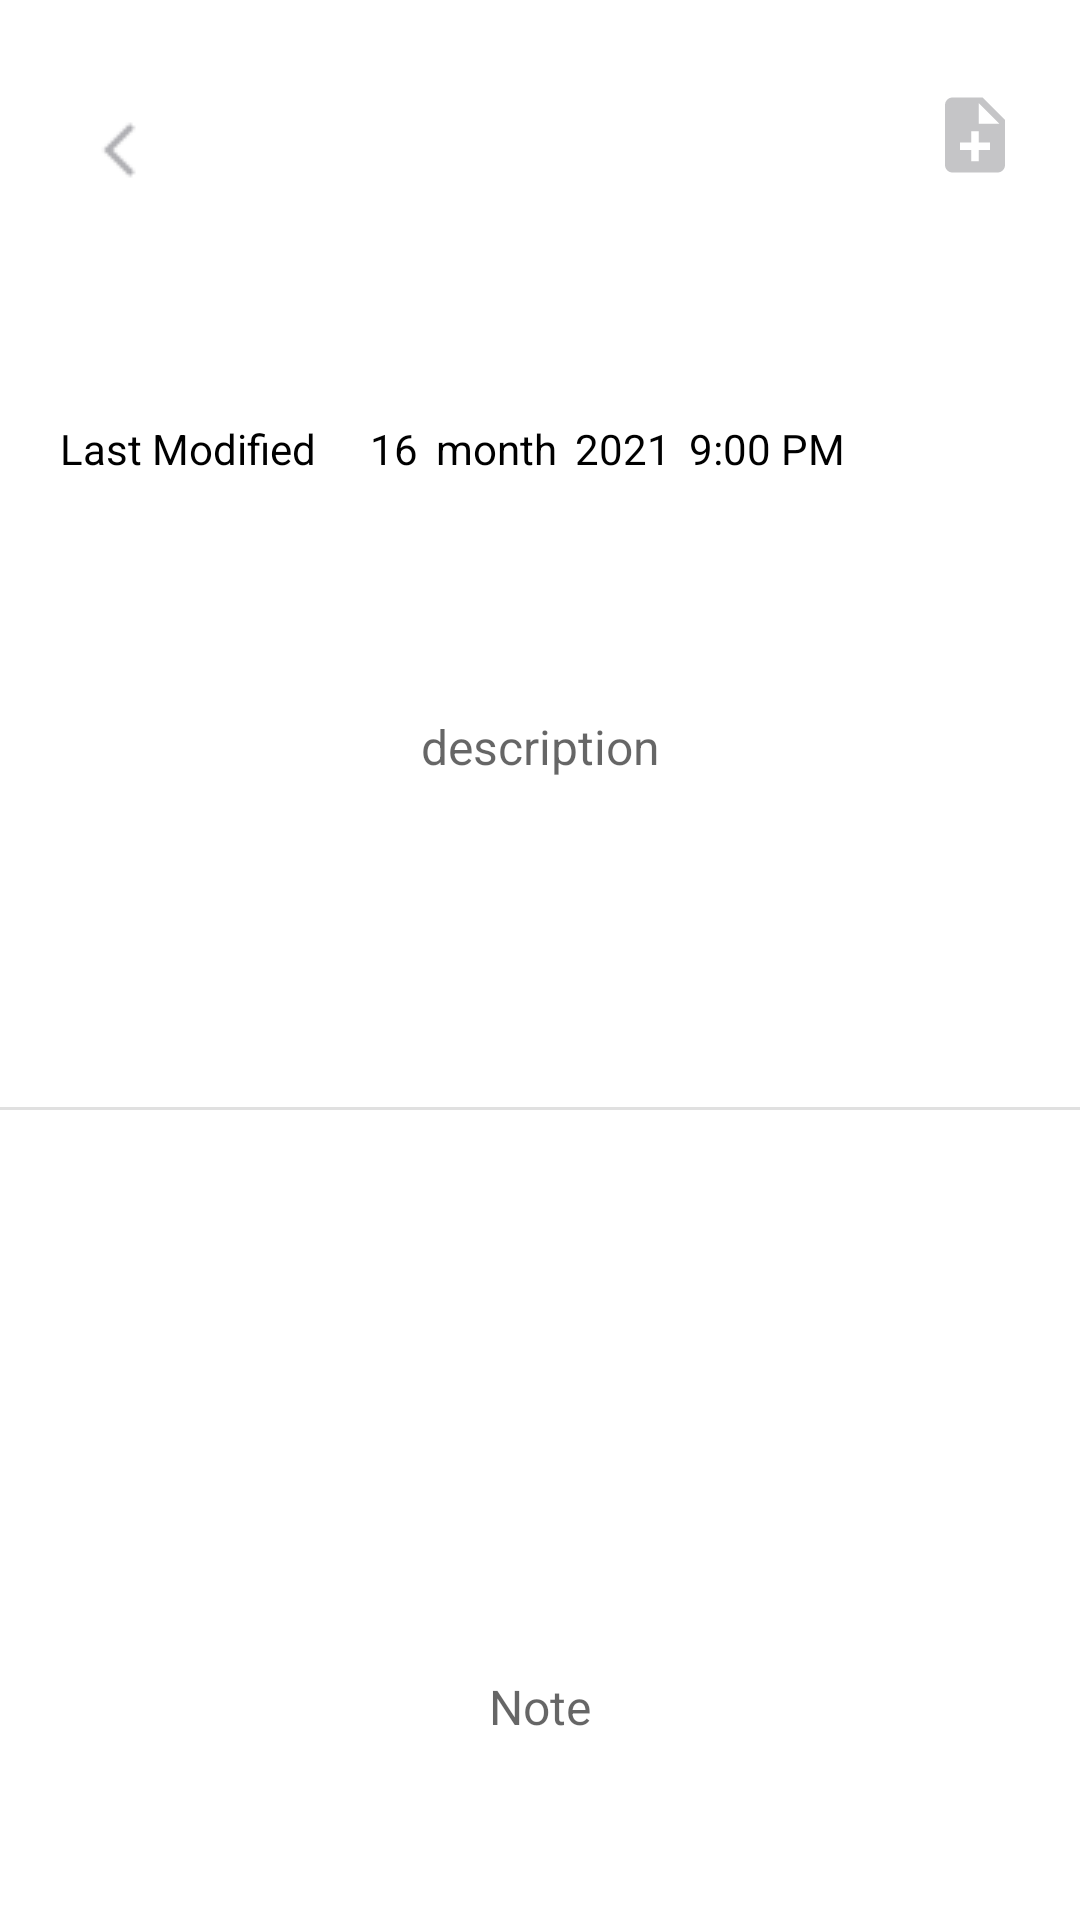

Point at icon controls on the screen. Image size 1080w x 1920h, points as (x,y).
add notes: (975,135)
back: (119,150)
